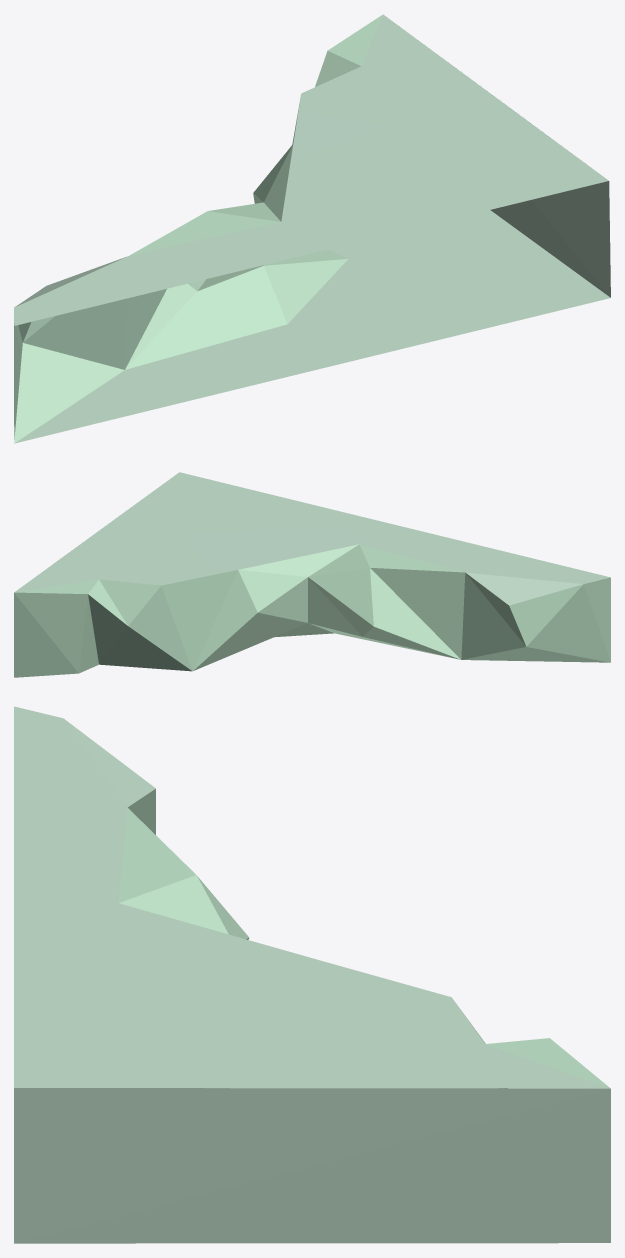
3 views of the same model, one above another, from view 1: azimuth 30°, elevation 25°; view 2: azimuth 150°, elevation 25°; view 3: azimuth 270°, elevation 25° (orthographic). The views are drawn at different scales.
Parts seen in each view (by area): view 1: Object15; view 2: Object15; view 3: Object15.
Boxes of the visible parts, x1,y1,x2,y2 form: Object15: (14,14,610,443); Object15: (14,472,610,677); Object15: (14,706,610,1243).
Bounding box in the file's own units: 30087 × 5664 × 19836.
